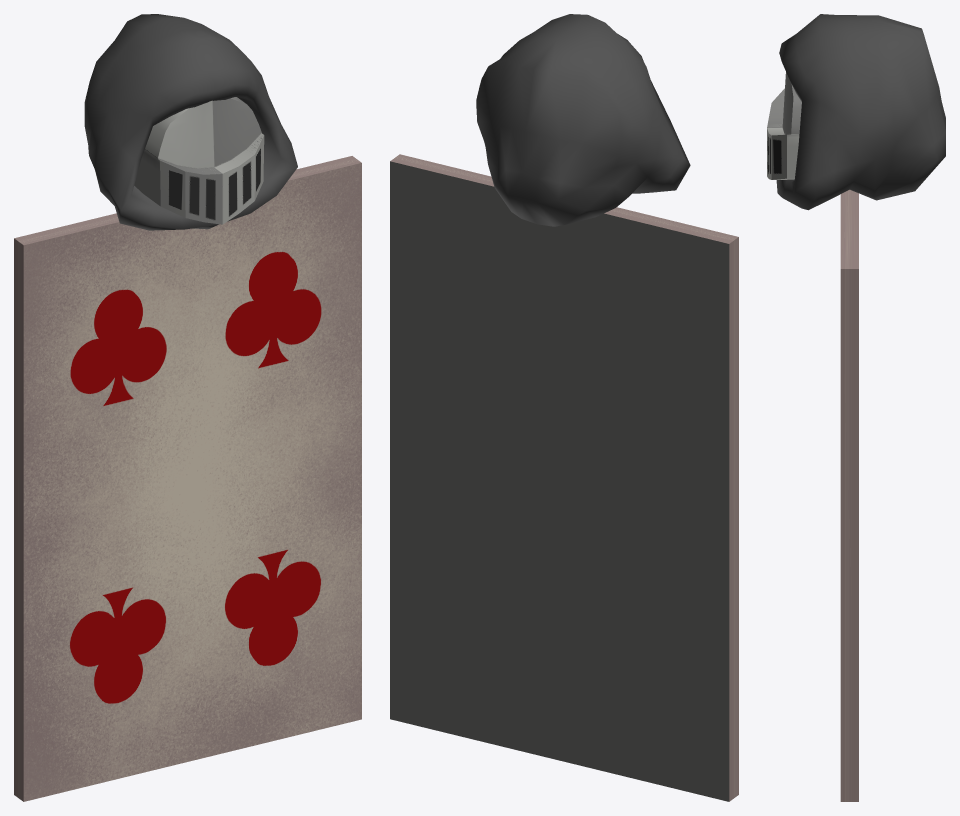
File: EnemyGroundBody.fbx
The picture shows the model from 3 angles, left to right: view 1: azimuth 30°, elevation 25°; view 2: azimuth 150°, elevation 25°; view 3: azimuth 270°, elevation 25°; orthographic projection. The views are drawn at different scales.
Parts seen in each view (by area): view 1: polySurface145, polySurface140, Helmet1, polySurface147; view 2: polySurface148, polySurface140, polySurface147; view 3: polySurface140, polySurface147, Helmet1.
Part boxes in pixels (box(x1,y1,x2,y2)): polySurface145: box(23, 163, 361, 801); polySurface140: box(84, 14, 297, 230); Helmet1: box(134, 97, 264, 224); polySurface147: box(14, 156, 361, 801); polySurface148: box(390, 161, 729, 801); polySurface140: box(476, 14, 690, 226); polySurface147: box(390, 154, 738, 801); polySurface140: box(776, 14, 945, 210); polySurface147: box(840, 189, 858, 801); Helmet1: box(767, 72, 801, 179).
Bounding box in the file's own units: 0.0099 × 0.0204 × 0.00474.
4 materials, 4 textured.
